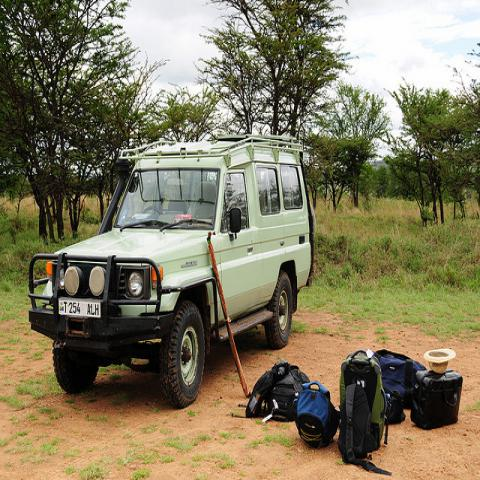car: (27, 135, 316, 415)
